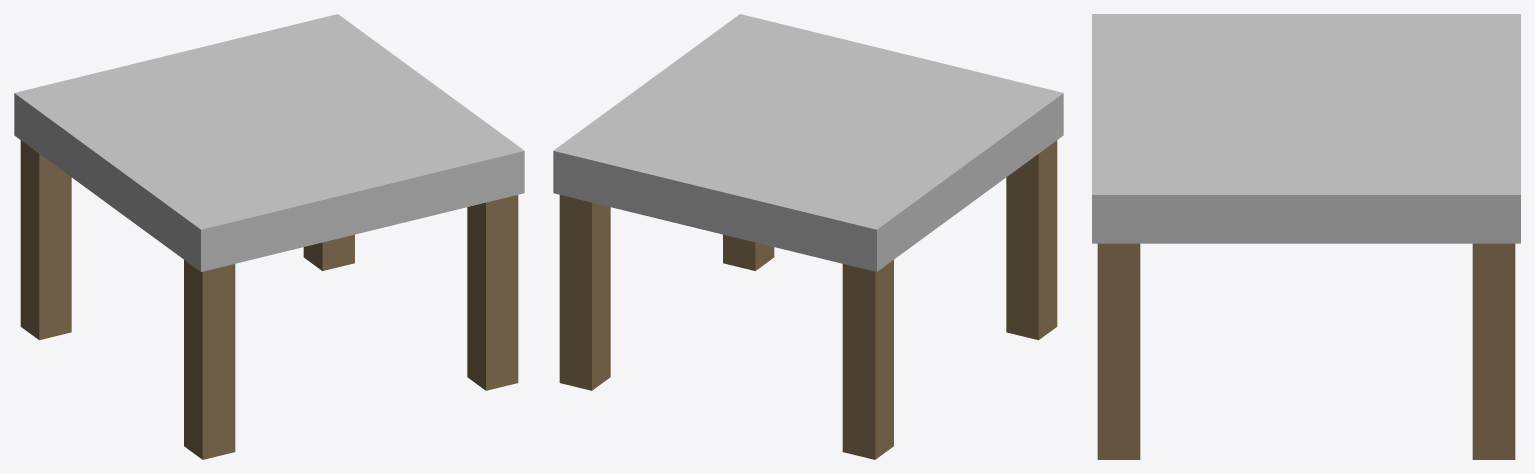
Rendered from chair.gltf.
3 renders of one model, left to right at view 1: azimuth 30°, elevation 25°; view 2: azimuth 150°, elevation 25°; view 3: azimuth 270°, elevation 25°, orthographic. The views are drawn at different scales.
Parts seen in each view (by area): view 1: chair; view 2: chair; view 3: chair.
Part boxes in pixels (x1=…): chair: x1=14, y1=14, x2=524, y2=459; chair: x1=553, y1=14, x2=1063, y2=459; chair: x1=1092, y1=14, x2=1520, y2=459.
Bounding box in the file's own units: 0.8 × 0.55 × 0.8.
